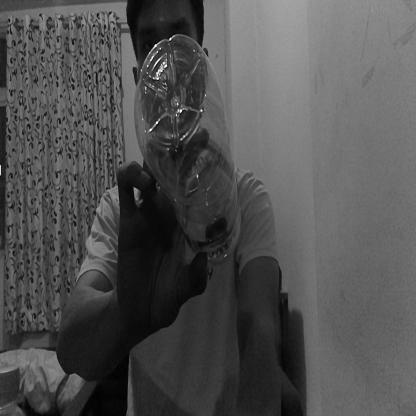plastic_bottles: (132, 35, 246, 267)
